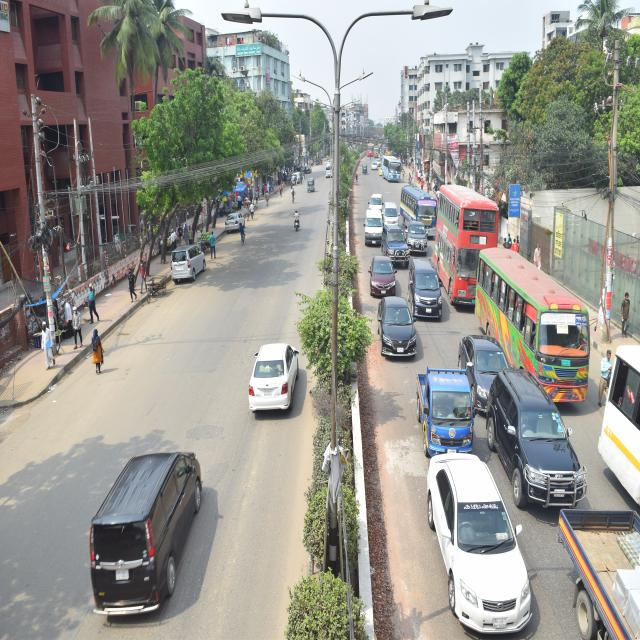bus: (473, 238, 594, 411), (432, 168, 510, 314), (600, 330, 640, 507), (401, 178, 438, 238), (379, 146, 405, 186)
car: (457, 328, 514, 421), (246, 328, 299, 420), (378, 294, 420, 363), (362, 251, 399, 302), (222, 208, 248, 234)
microbus: (76, 429, 209, 630), (492, 368, 588, 509), (410, 258, 448, 320), (167, 238, 211, 290), (377, 218, 408, 266), (385, 221, 409, 265), (409, 209, 432, 251)
motorbike: (288, 208, 306, 236)
pickup-van: (545, 499, 639, 640), (414, 358, 477, 458), (363, 202, 388, 250), (369, 187, 384, 206)
